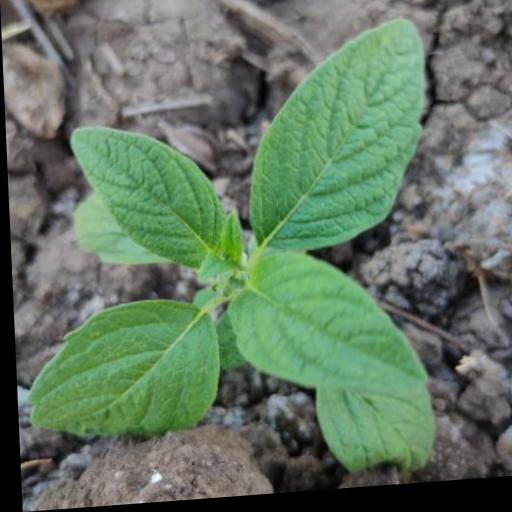crop: (1, 0, 448, 512)
